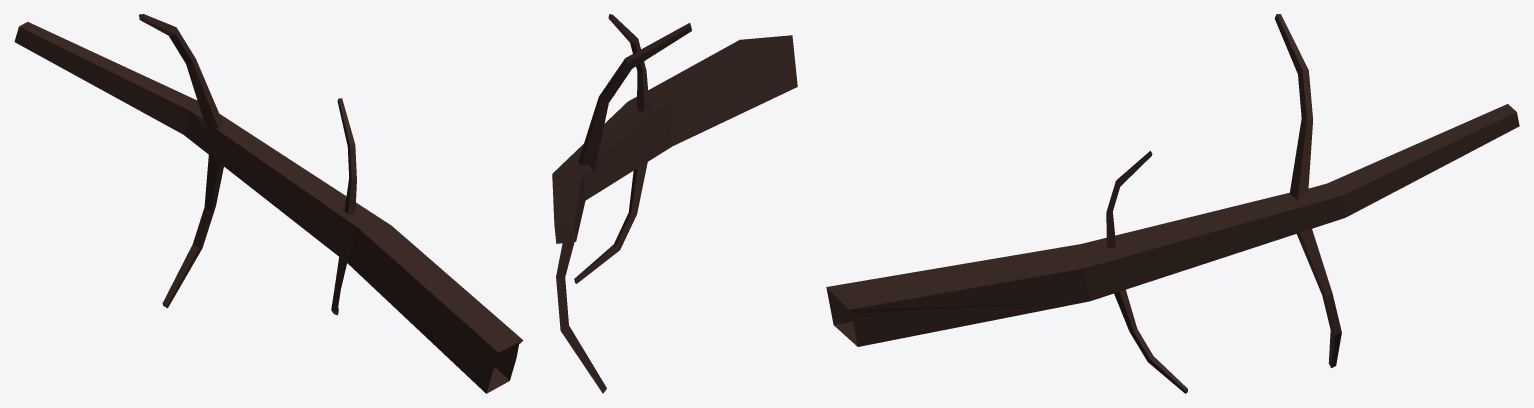
File: 13 Tree_Wood_1.FBX
The picture shows the model from 3 angles, left to right: view 1: azimuth 30°, elevation 25°; view 2: azimuth 150°, elevation 25°; view 3: azimuth 270°, elevation 25°; orthographic projection. The views are drawn at different scales.
Visible parts, largest first — view 1: Wood_branch; view 2: Wood_branch; view 3: Wood_branch.
Boxes of the visible parts, x1,y1,x2,y2 form: Wood_branch: [14, 14, 523, 393]; Wood_branch: [552, 14, 797, 393]; Wood_branch: [826, 14, 1519, 393].
Size of the model in its own units: 286 by 495 by 945.
